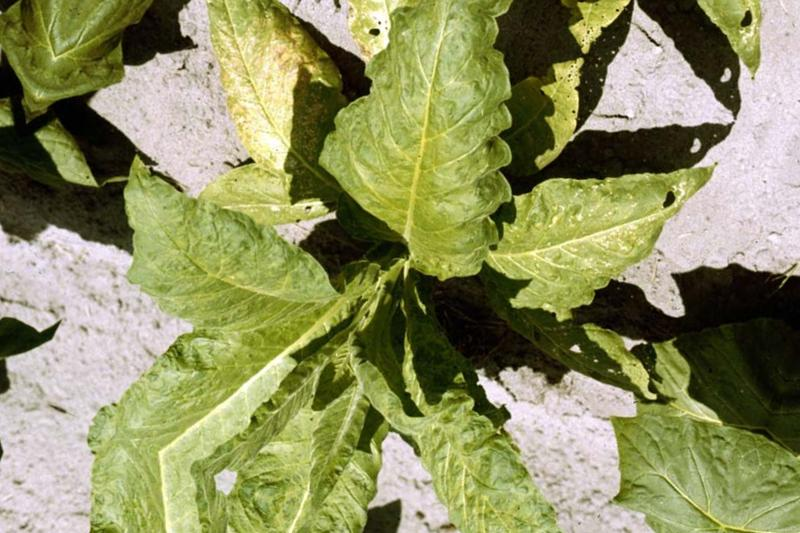Tomato leaf mosaic virus: (319, 298, 689, 533), (289, 0, 582, 295), (467, 120, 702, 377), (81, 151, 348, 357)
